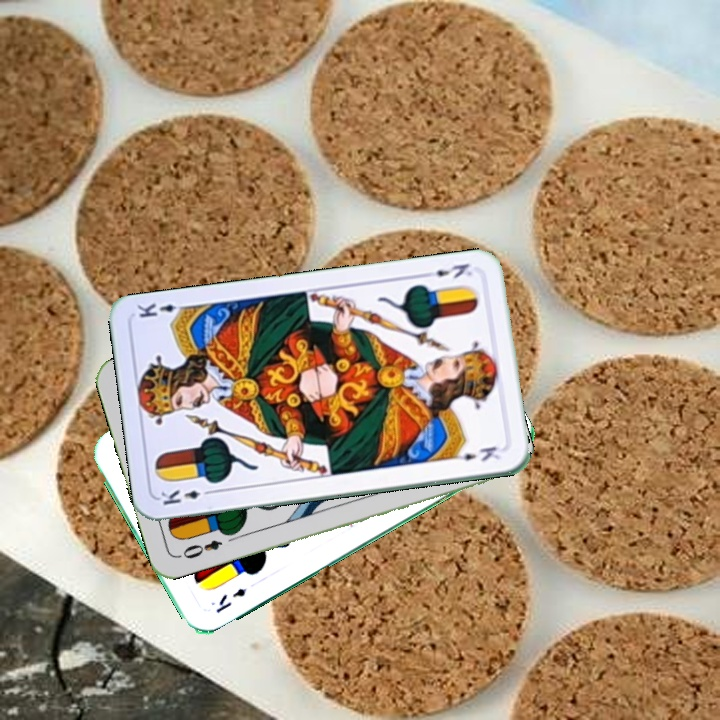EK: (157, 485, 216, 508), (212, 583, 249, 616), (420, 259, 474, 281)
EO: (174, 536, 225, 562)
